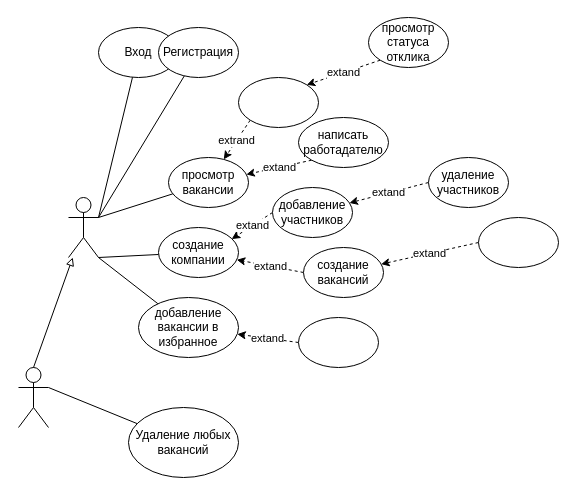
This 576x495 diagram has some shape labels left out. The box of each missing label's shape, as (x1, y1, x2, y2) in pixels:
admin: (18, 366, 48, 428)
user: (68, 196, 98, 258)
отклик на вакансию: (238, 76, 318, 128)
удаление вакансий: (478, 216, 558, 268)
удаление из избранного: (298, 316, 378, 368)
